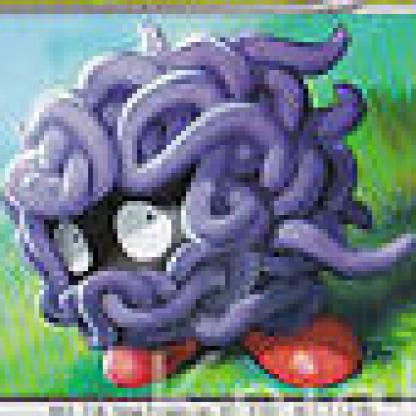Tangela: (16, 15, 412, 384)
